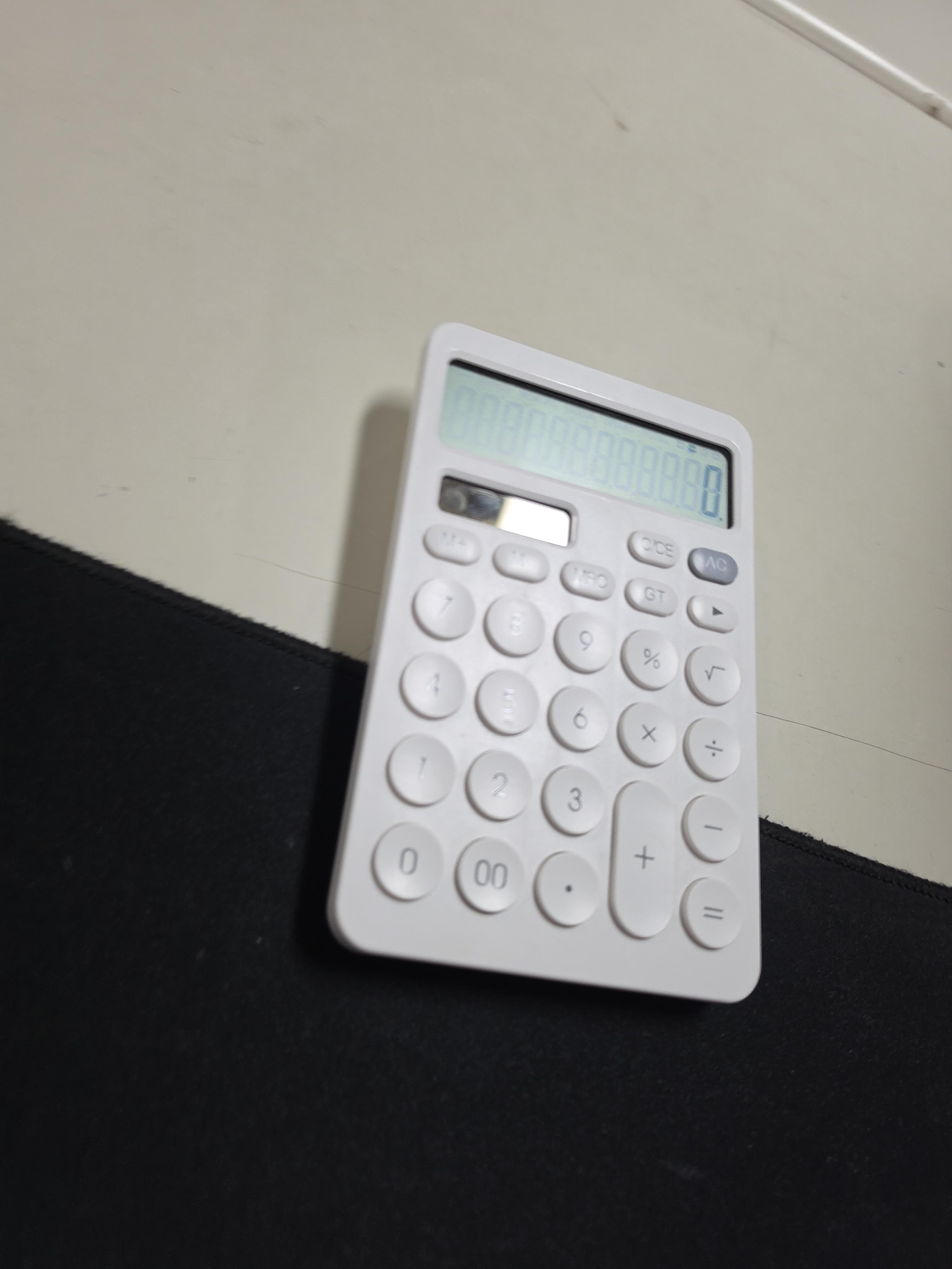calculator: (326, 322, 762, 1004)
